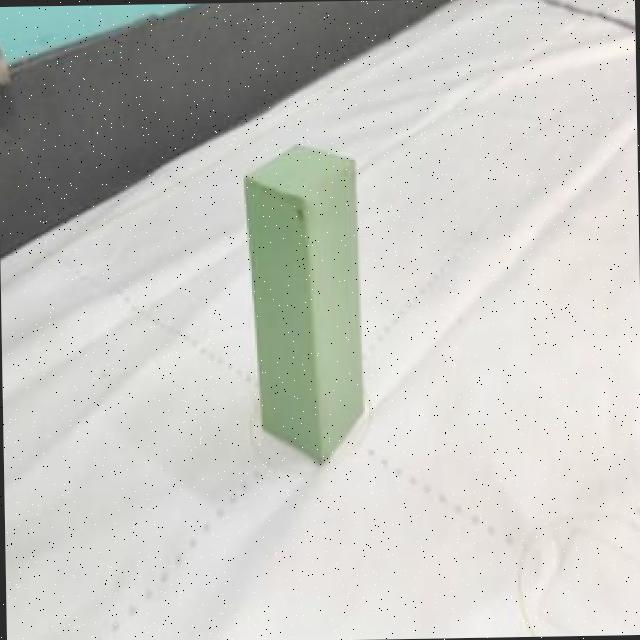greenbox: (238, 138, 366, 468)
